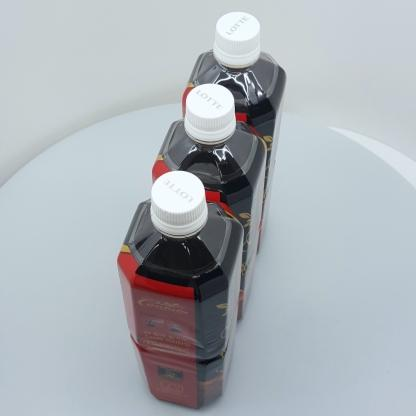-----------900ML: (117, 170, 244, 409)
